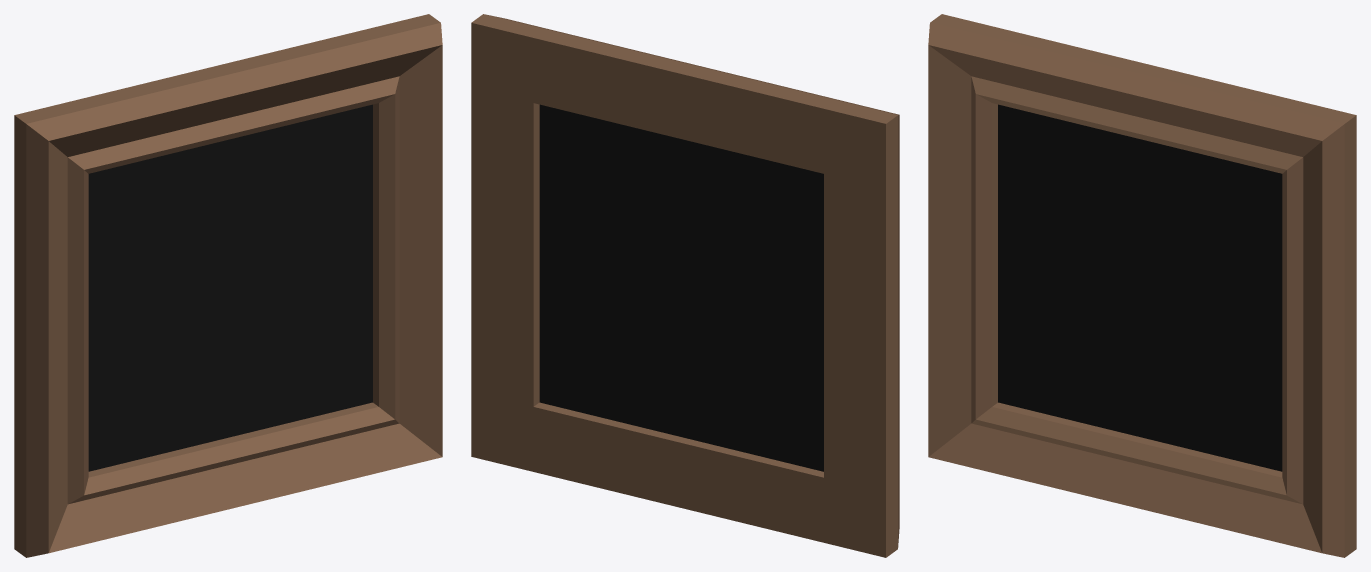
File: Prop_Misc_Picture_Square_Small.obj
The picture shows the model from 3 angles, left to right: view 1: azimuth 30°, elevation 25°; view 2: azimuth 150°, elevation 25°; view 3: azimuth 330°, elevation 25°; orthographic projection.
Parts seen in each view (by area): view 1: object2, object1; view 2: object2, object1; view 3: object2, object1.
Part boxes in pixels (x1,y1,x2,y2): object2: (14,14,442,557); object1: (88,104,372,471); object2: (471,14,899,557); object1: (539,104,823,471); object2: (928,14,1356,557); object1: (998,104,1282,471).
Bounding box in the file's own units: 0.5 × 0.5 × 0.05.
